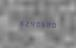eight: (17, 18, 22, 27), (47, 20, 52, 28)
four: (29, 19, 34, 27)
six: (41, 20, 46, 28)
two: (23, 19, 28, 27)
zero: (35, 19, 40, 28), (53, 20, 58, 29)
